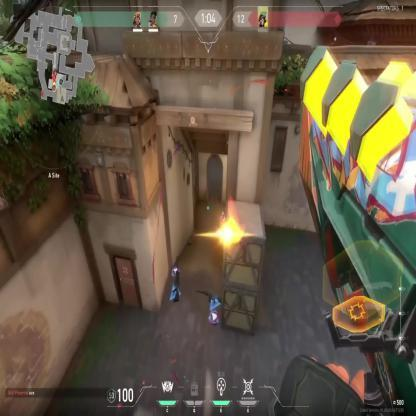enemy: (217, 209, 228, 250)
enemy_head: (222, 212, 225, 219)
